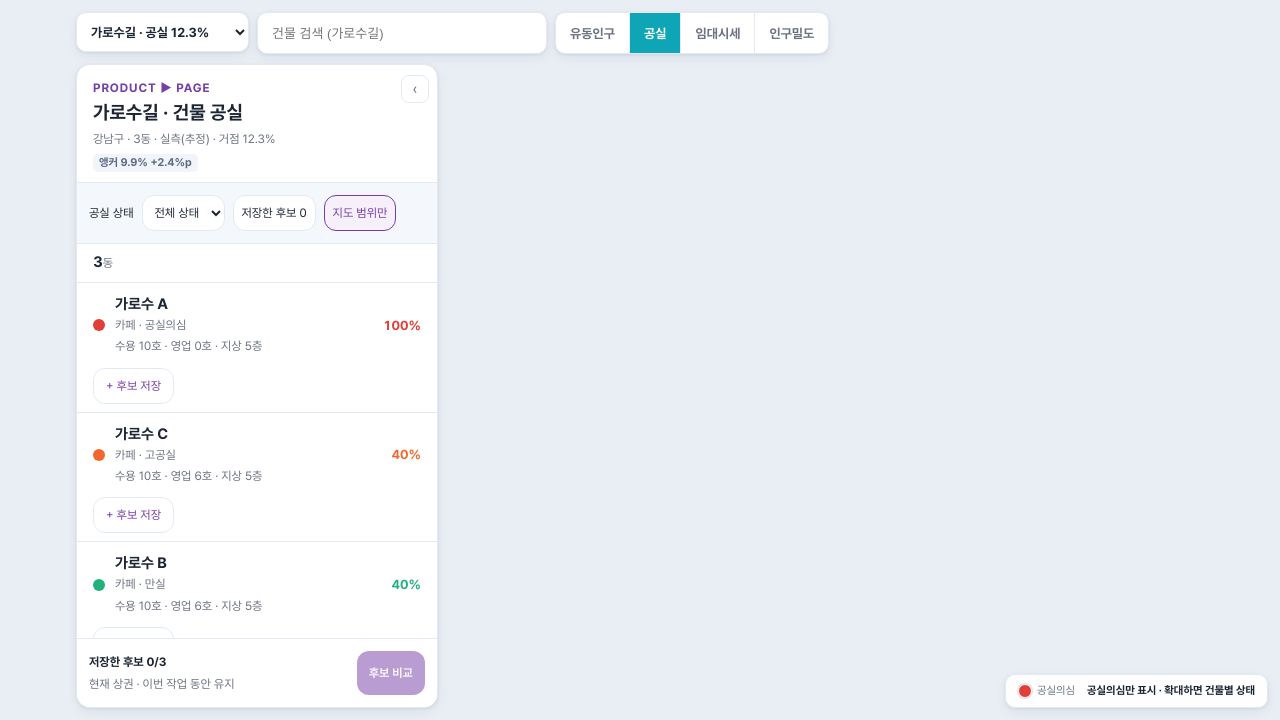
MapShell — 임대시세는 금액으로 말한다 › 격자를 칠하지 않고 층별 평당 표와 금액 칩을 건다
The image size is (1280, 720).
Expected: the text "가로수 A" is shown, [115,295,168,313]
What coordinates should you click on to do the following:
click the button "임대시세"
I would click on:
 (717, 33)
Its box is [680,13,754,53].
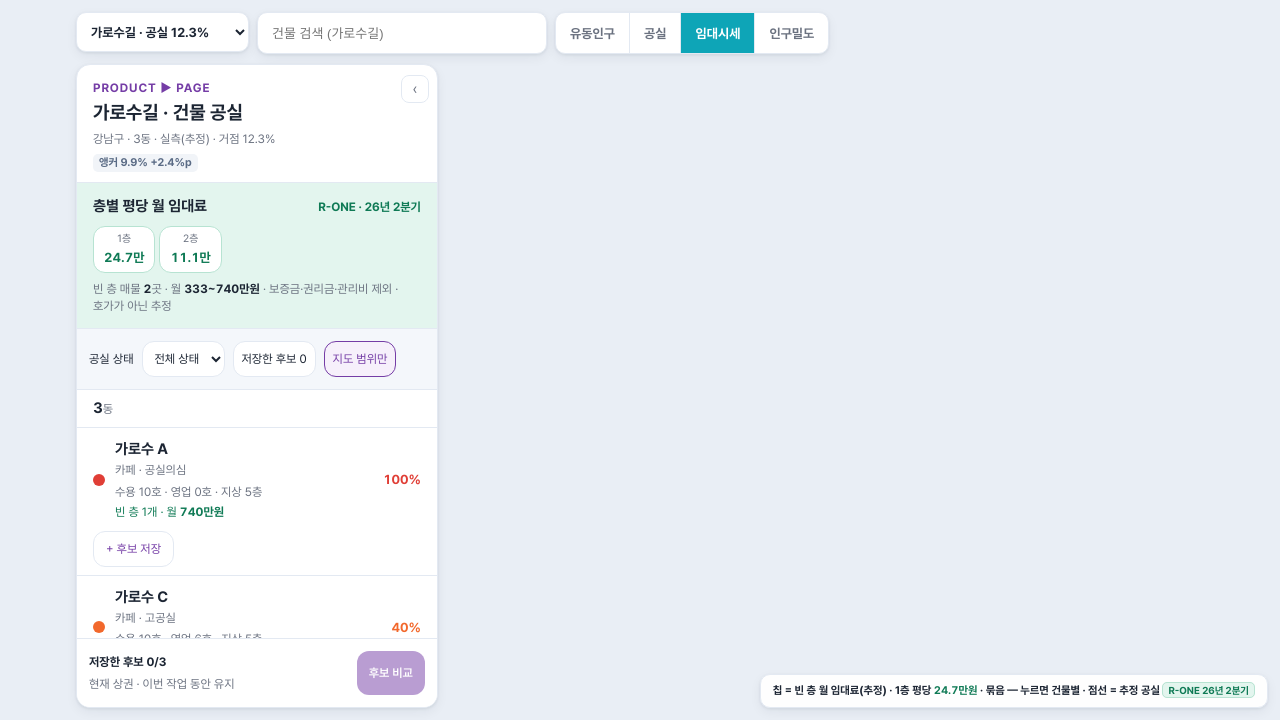
Result: the text "24.7만" is shown at [104,248,144,268]
Result: the text "11.1만" is shown at [170,248,211,268]
Result: the element labelled "층별 평당 월 임대료" shows "보증금·권리금·관리비 제외" at [77,183,437,328]
